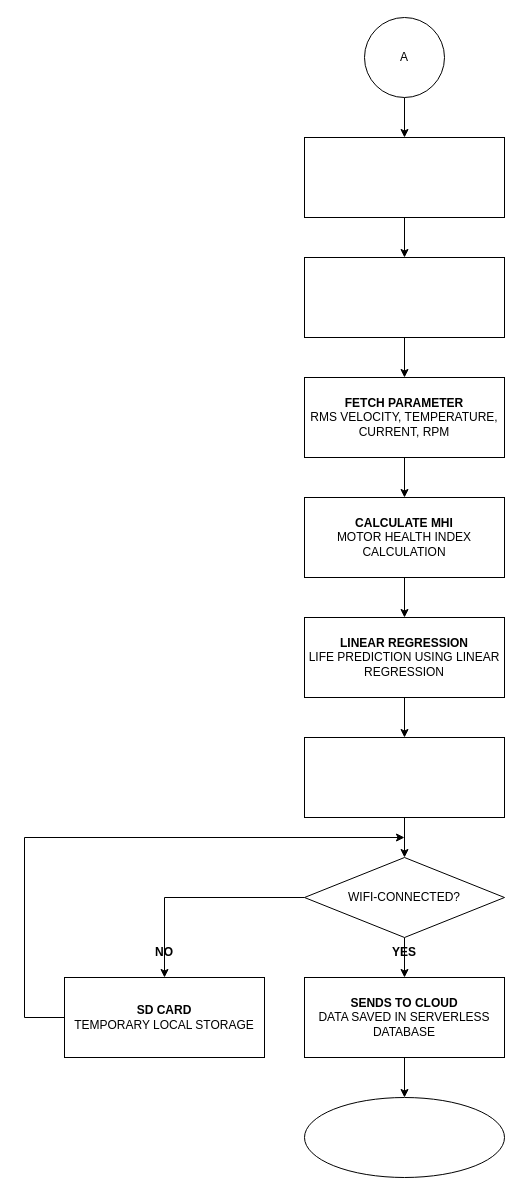
Image size: 522x1195. Some labels were removed from this diagram. The box of each missing label's shape, as (x1, y1, x2, y2) in pixels:
CALCULATE RPM HALL-EFFECT TO RPM CONVERSION: (304, 256, 504, 338)
END: (304, 1096, 504, 1178)
HALL-EFFECT SIGNAL CONDITIONING FILTER, SIGNAL AMP: (304, 136, 504, 218)
TIMESTAMP AND SERIAL MONITOR ACC, VEL, RMS VEL, TEMP, CURR, RPM: (304, 736, 504, 818)
